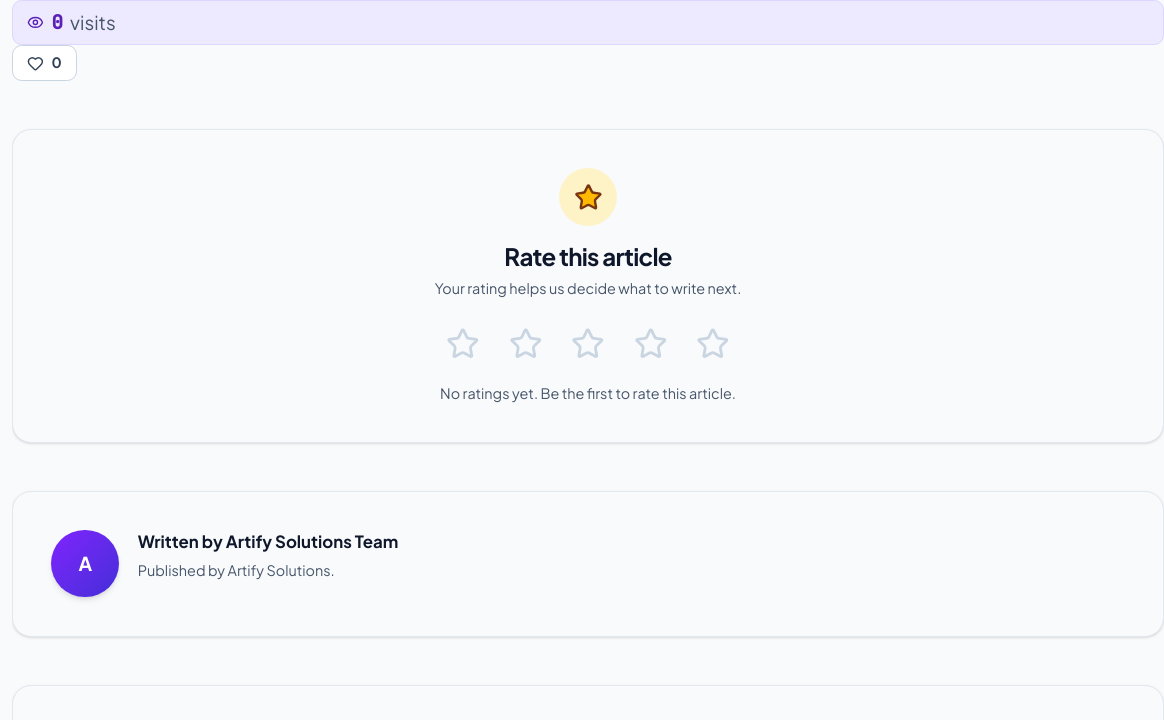
engagement UI › likes optimistically, saves through the API with an anonymous reader id, and can unlike
Click the button named "Like this article" at (44, 63), box [12,45,77,81]
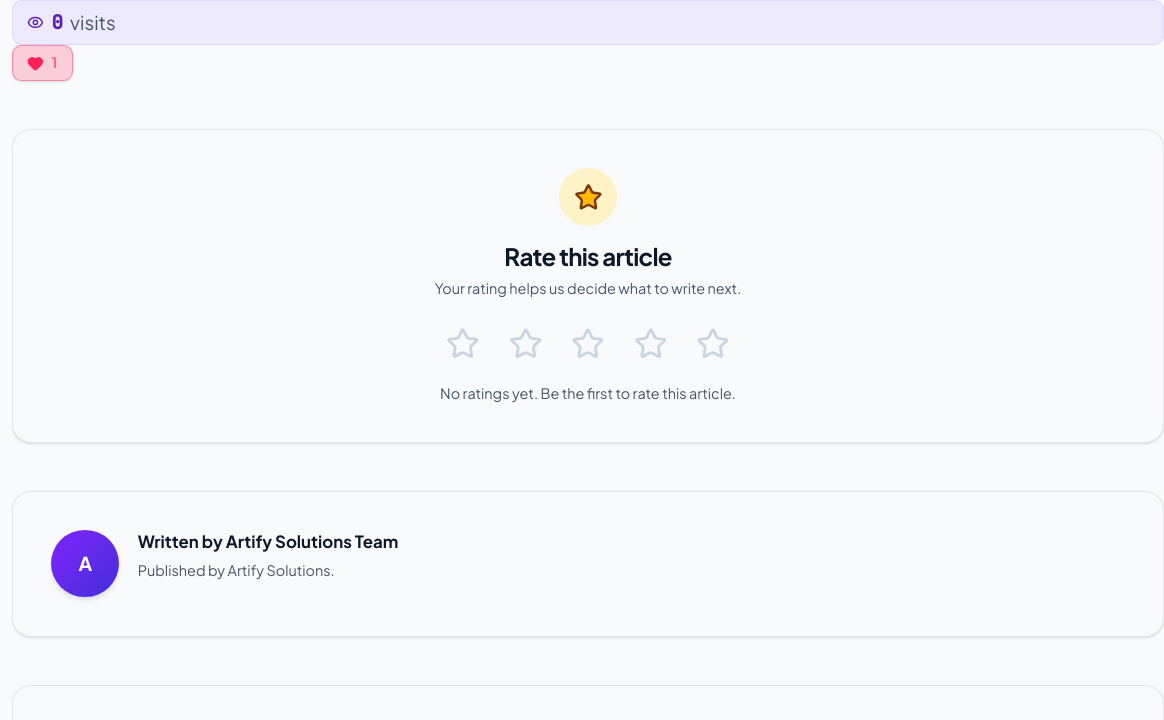
Result: the button named "Unlike this article" reads "1"
Click the button named "Unlike this article" at (42, 63), box [12,45,73,81]
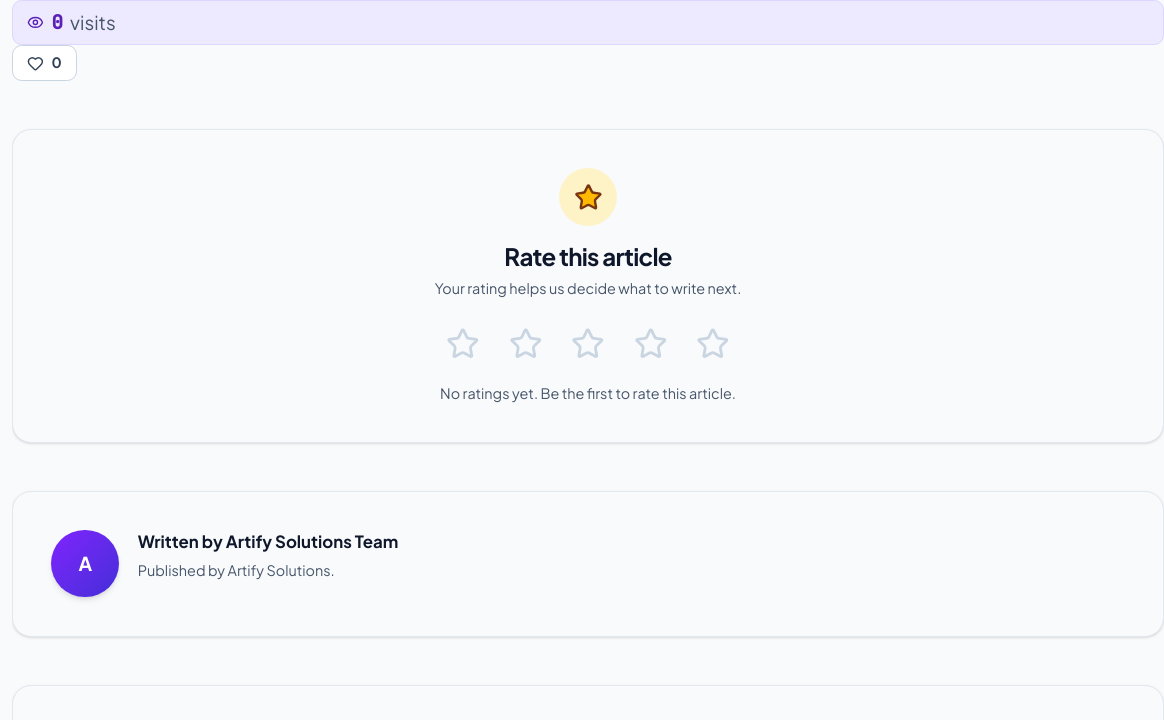
Result: the button named "Like this article" reads "0" at [12,45,77,81]
